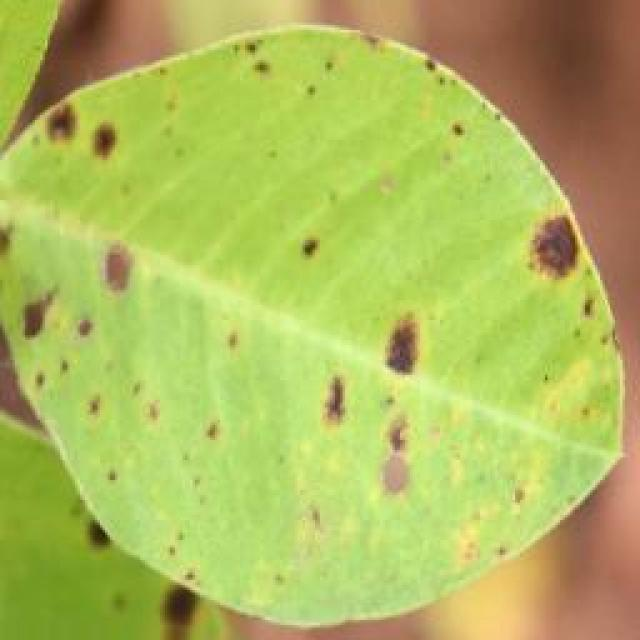Yellowish: (0, 49, 592, 602)
